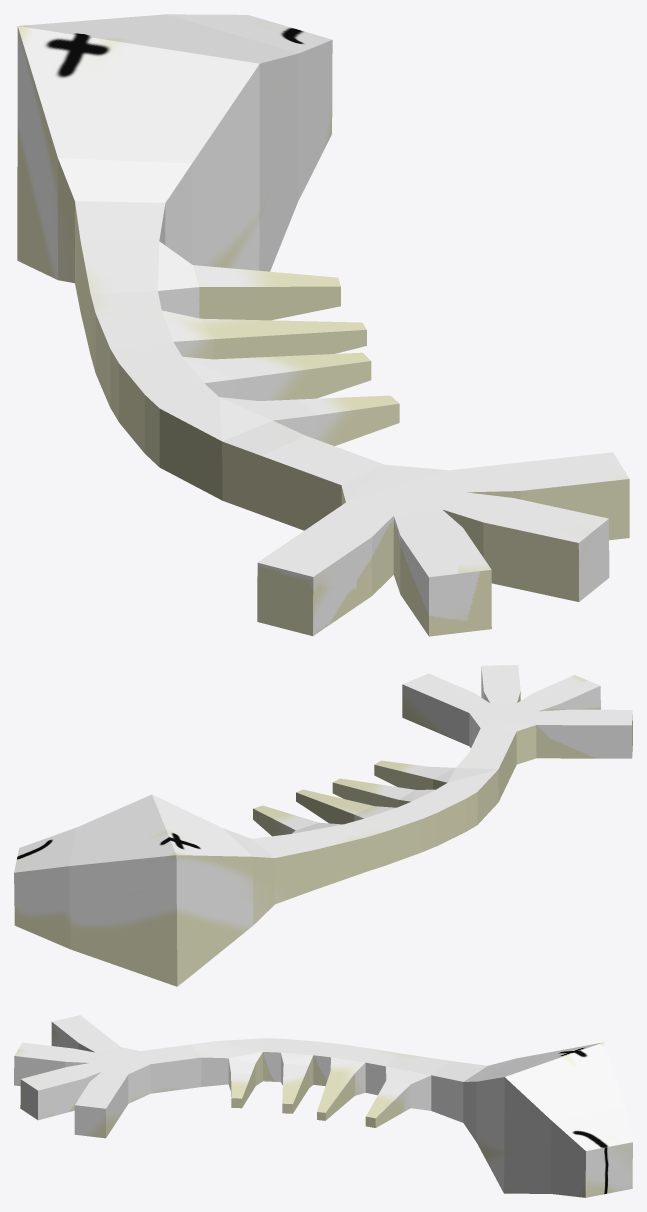
The model's file is Deadfish.fbx.
The picture shows the model from 3 angles, top to bottom: view 1: azimuth 30°, elevation 25°; view 2: azimuth 150°, elevation 25°; view 3: azimuth 270°, elevation 25°; orthographic projection. The views are drawn at different scales.
Visible parts, largest first — view 1: Cube; view 2: Cube; view 3: Cube.
Boxes of the visible parts, <box> form: Cube: <box>17,14,629,636</box>; Cube: <box>14,665,632,986</box>; Cube: <box>14,1015,632,1197</box>.
Size of the model in its own units: 12.85 by 4.95 by 23.72.
